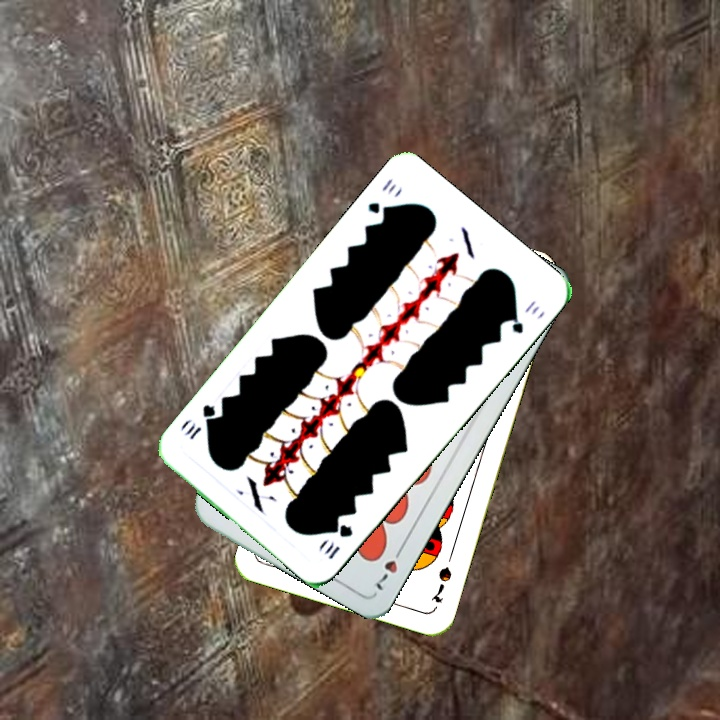G10: (364, 173, 400, 220), (319, 520, 356, 562)
H7: (372, 541, 407, 593)
S7: (426, 562, 455, 606)
